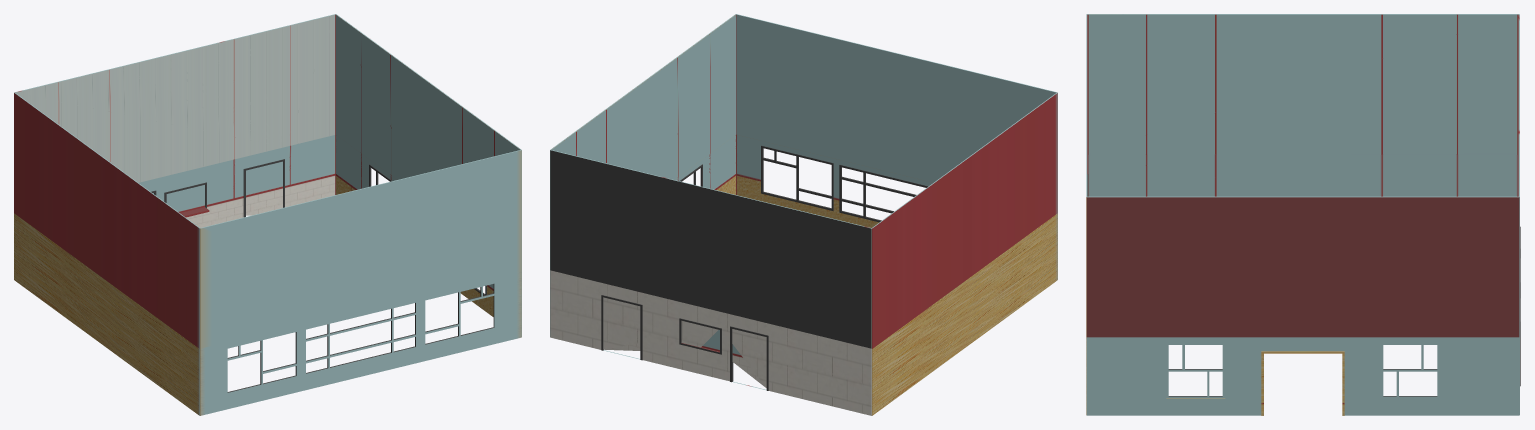
The model's file is CanteenV2.fbx.
3 renders of one model, left to right at view 1: azimuth 30°, elevation 25°; view 2: azimuth 150°, elevation 25°; view 3: azimuth 270°, elevation 25°, orthographic. The views are drawn at different scales.
Visible parts, largest first — view 1: wallWindows, wallKitchen, wallBack, wallEnter; view 2: wallKitchen, wallWindows, wallBack, wallEnter; view 3: wallEnter, wallBack, wallKitchen, wallWindows.
Part boxes in pixels (x1=…): wallWindows: x1=200, y1=150, x2=521, y2=415; wallKitchen: x1=14, y1=14, x2=335, y2=227; wallBack: x1=14, y1=92, x2=199, y2=415; wallEnter: x1=335, y1=14, x2=521, y2=336; wallKitchen: x1=550, y1=150, x2=871, y2=415; wallWindows: x1=736, y1=14, x2=1057, y2=227; wallBack: x1=872, y1=92, x2=1057, y2=415; wallEnter: x1=550, y1=14, x2=736, y2=336; wallEnter: x1=1086, y1=196, x2=1519, y2=415; wallBack: x1=1086, y1=14, x2=1518, y2=196; wallKitchen: x1=1518, y1=14, x2=1520, y2=415; wallWindows: x1=1086, y1=14, x2=1088, y2=414.
Size of the model in its own units: 7033 by 3900 by 7035.
